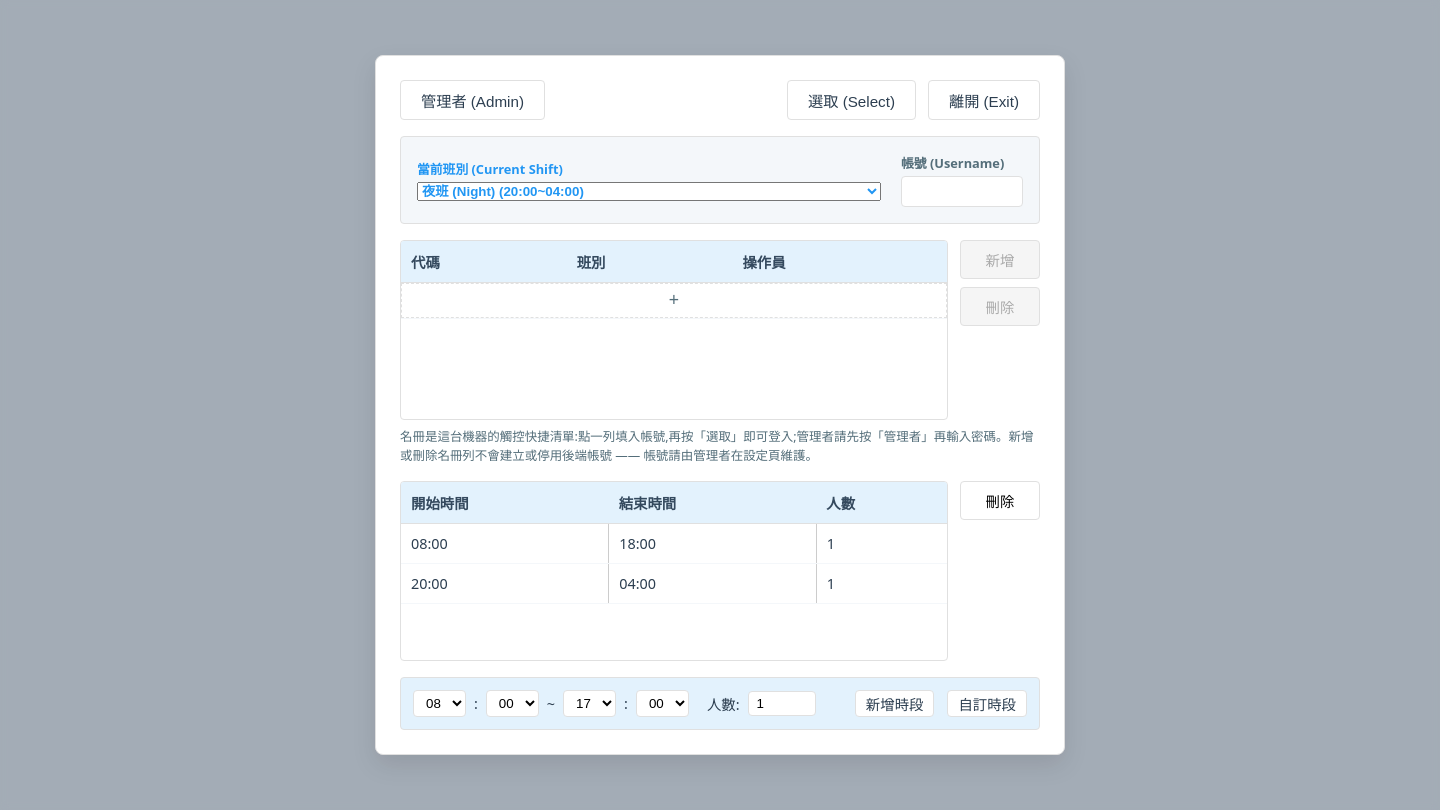
it: S17 登入失敗改用畫面訊息 › 重新輸入帳號會收掉錯誤訊息
This screenshot has width=1440, height=810.
Type "OP1" into the field named "帳號 (Username)" at coordinates (962, 191), box [901,176,1023,207]
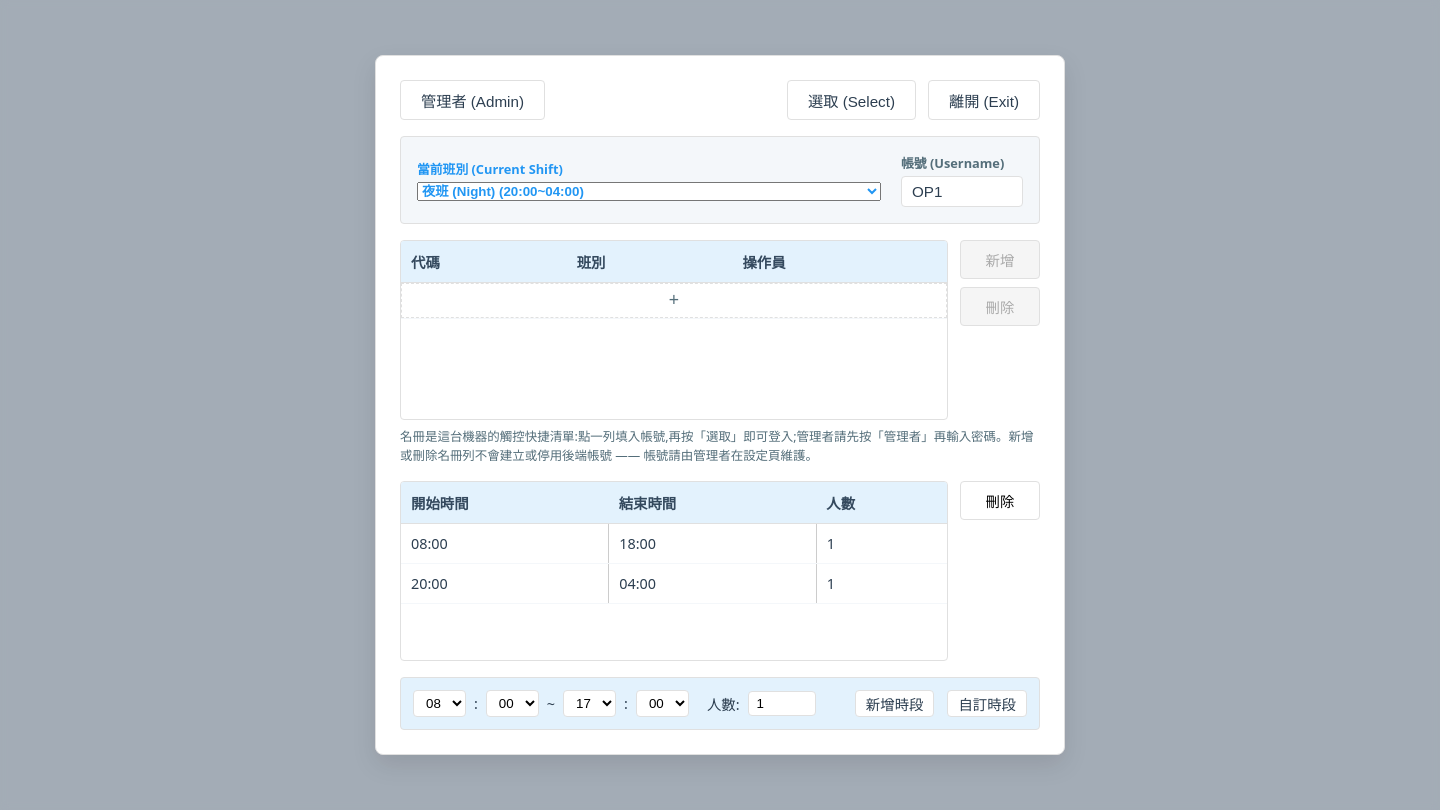
Click the button "選取 (Select)" at coordinates (851, 100), box [787,80,916,120]
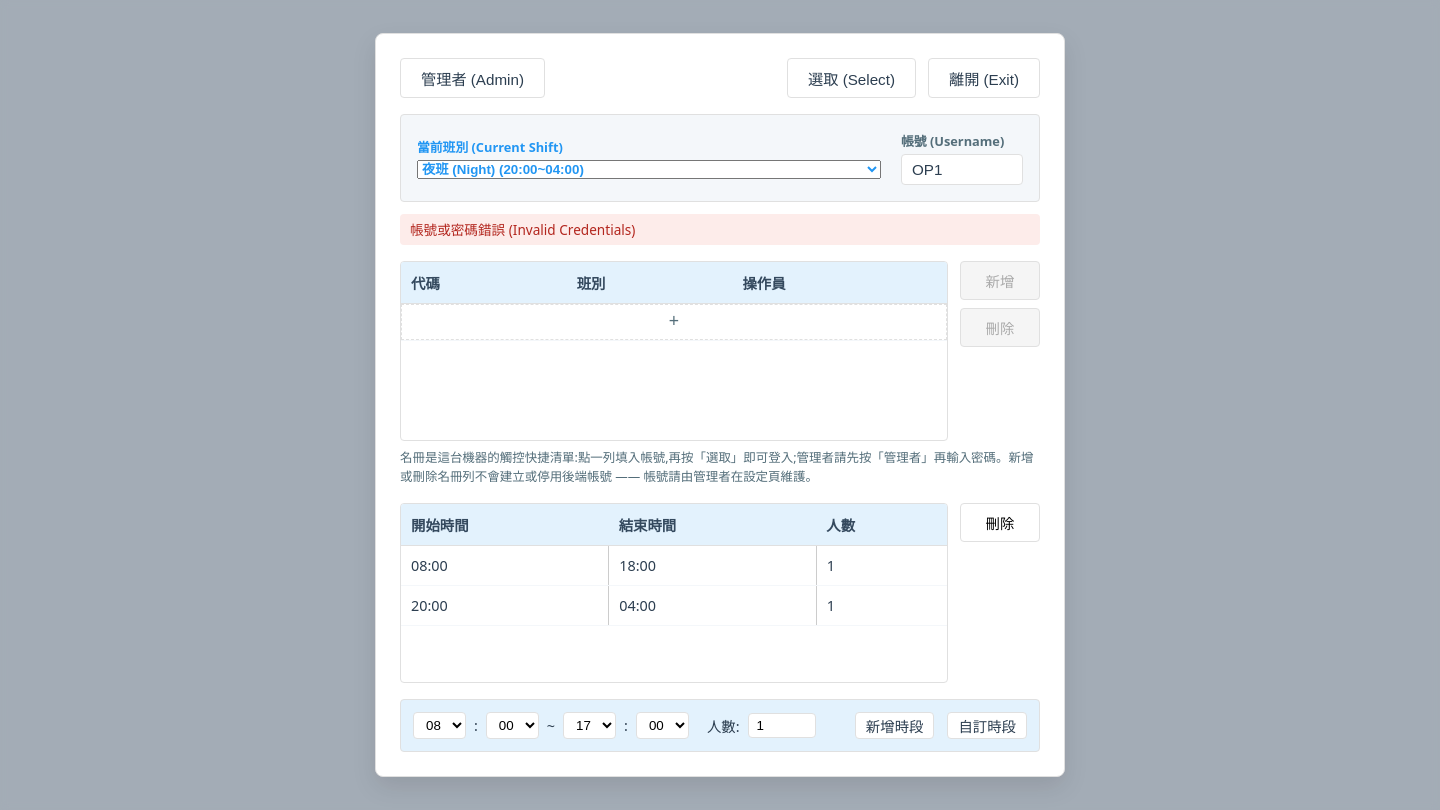
Expected: the message "帳號或密碼錯誤 (Invalid Credentials)" is shown, [400,214,1040,245]
Replace the text in the field named "帳號 (Username)" with "OP2" at coordinates (962, 170), box [901,154,1023,185]
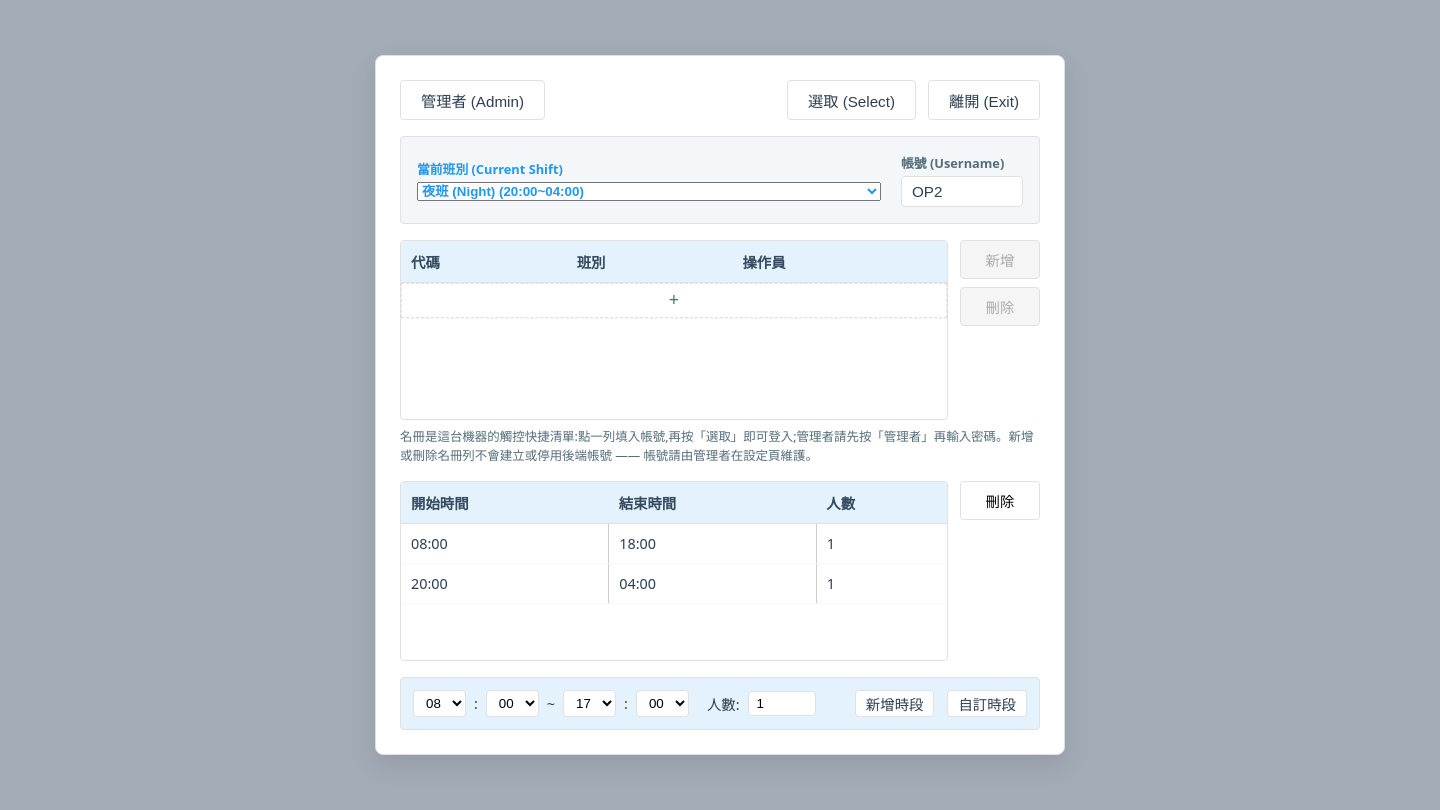
Expected: the message "帳號或密碼錯誤 (Invalid Credentials)" is gone
